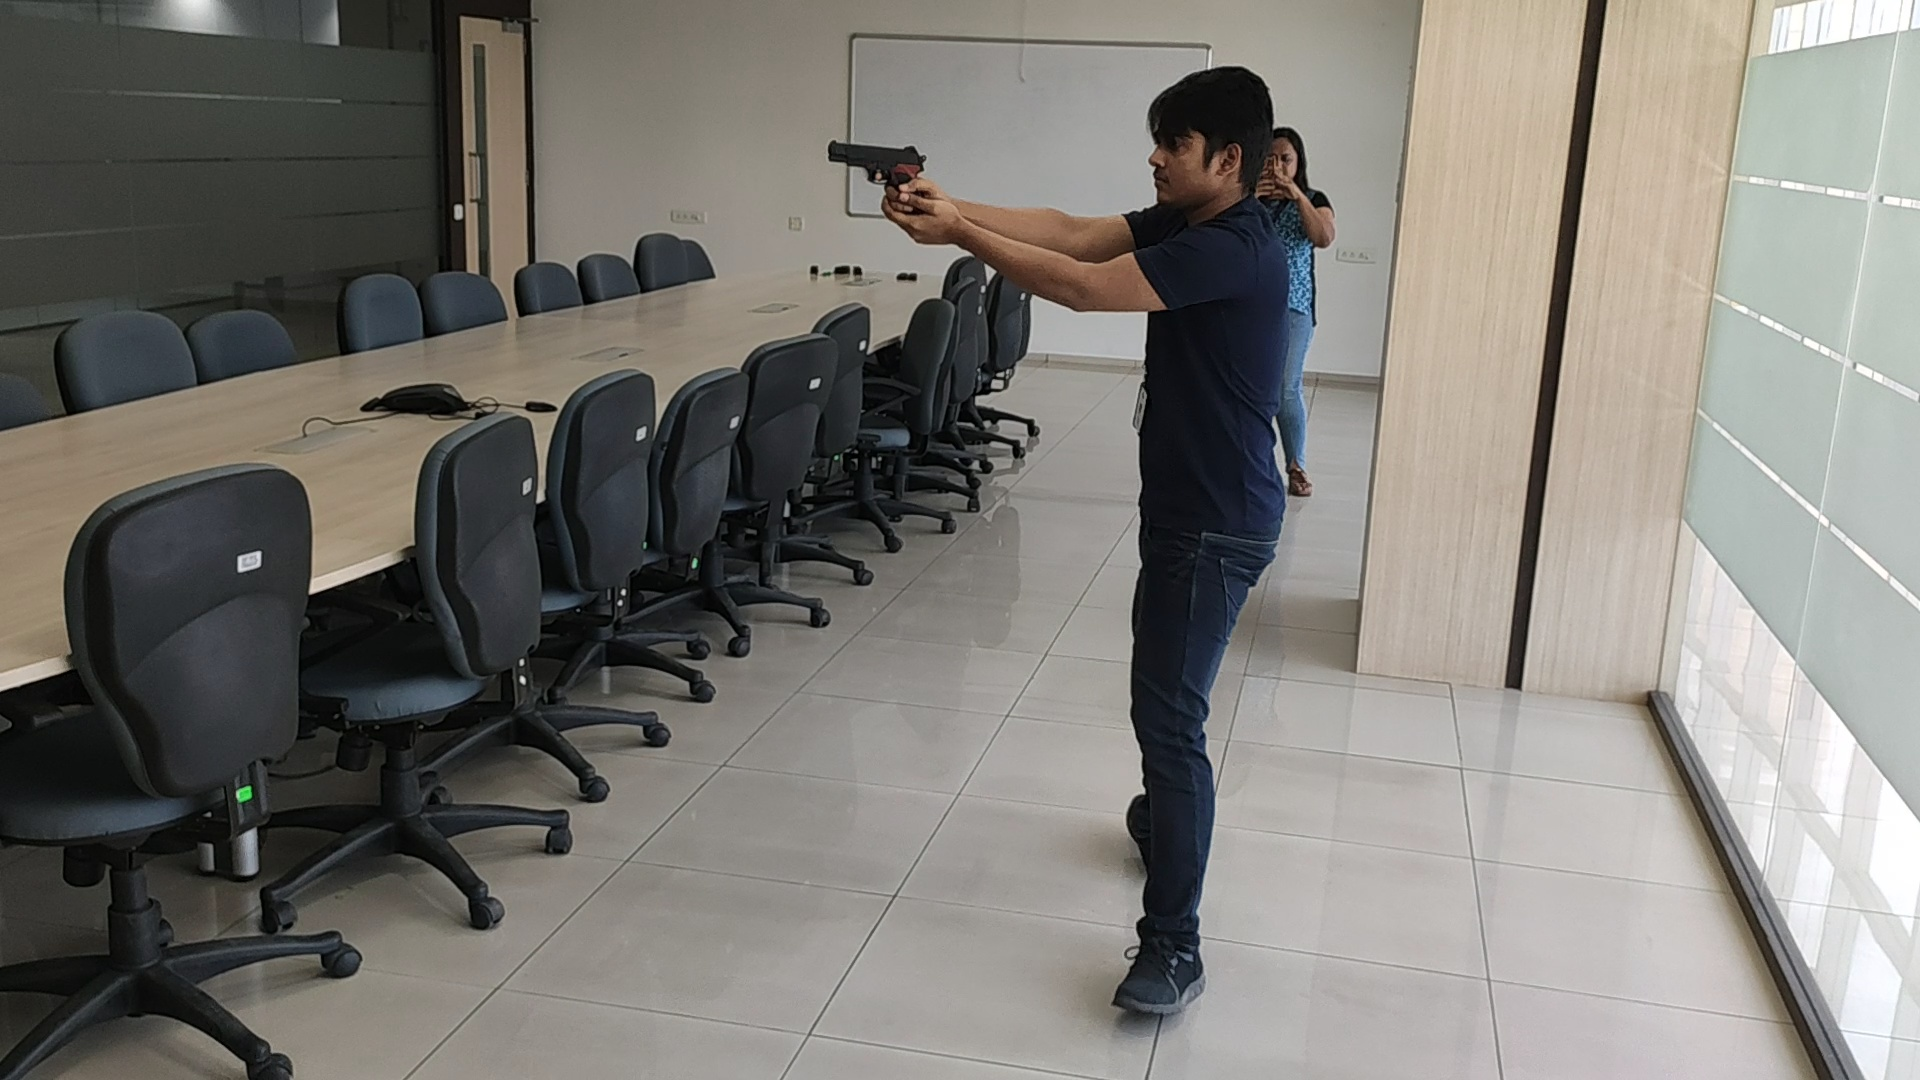gun: (825, 138, 927, 187)
